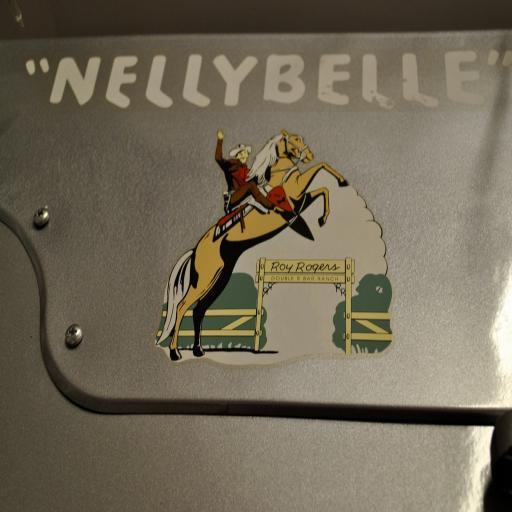horse: (153, 127, 349, 362)
